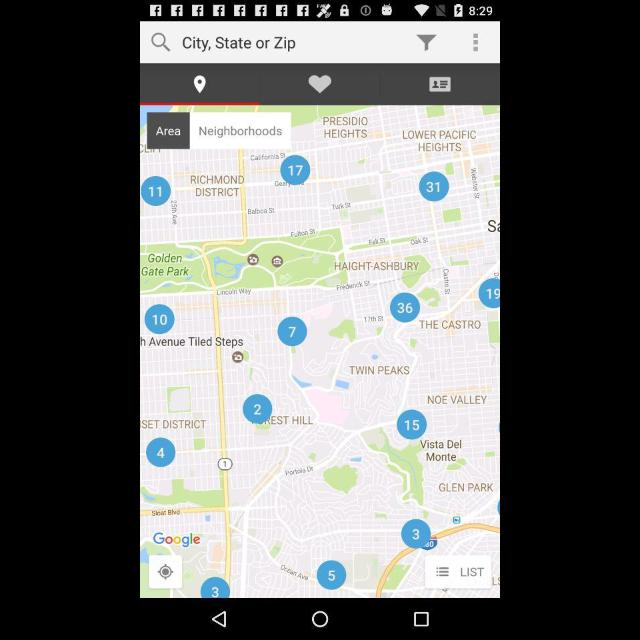icon: (152, 32, 170, 54), (308, 76, 332, 92), (430, 76, 450, 92), (416, 34, 436, 50), (212, 610, 228, 628), (312, 610, 328, 628), (158, 564, 174, 580), (194, 74, 206, 94), (414, 611, 428, 627), (472, 32, 480, 52)
map: (141, 107, 499, 598)
multitab: (141, 63, 499, 105)
panel: (141, 598, 499, 638)
text: (180, 34, 296, 54)
toolbar: (140, 22, 500, 64)
uppertaskbar: (140, 1, 500, 21)
